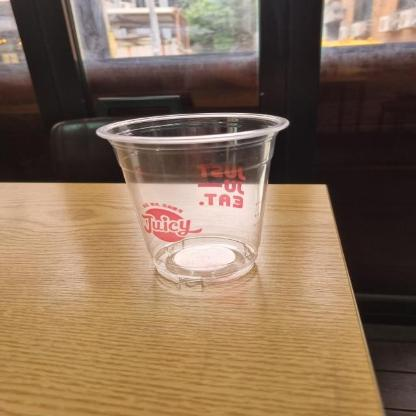Plastic Cup: (90, 106, 296, 289)
